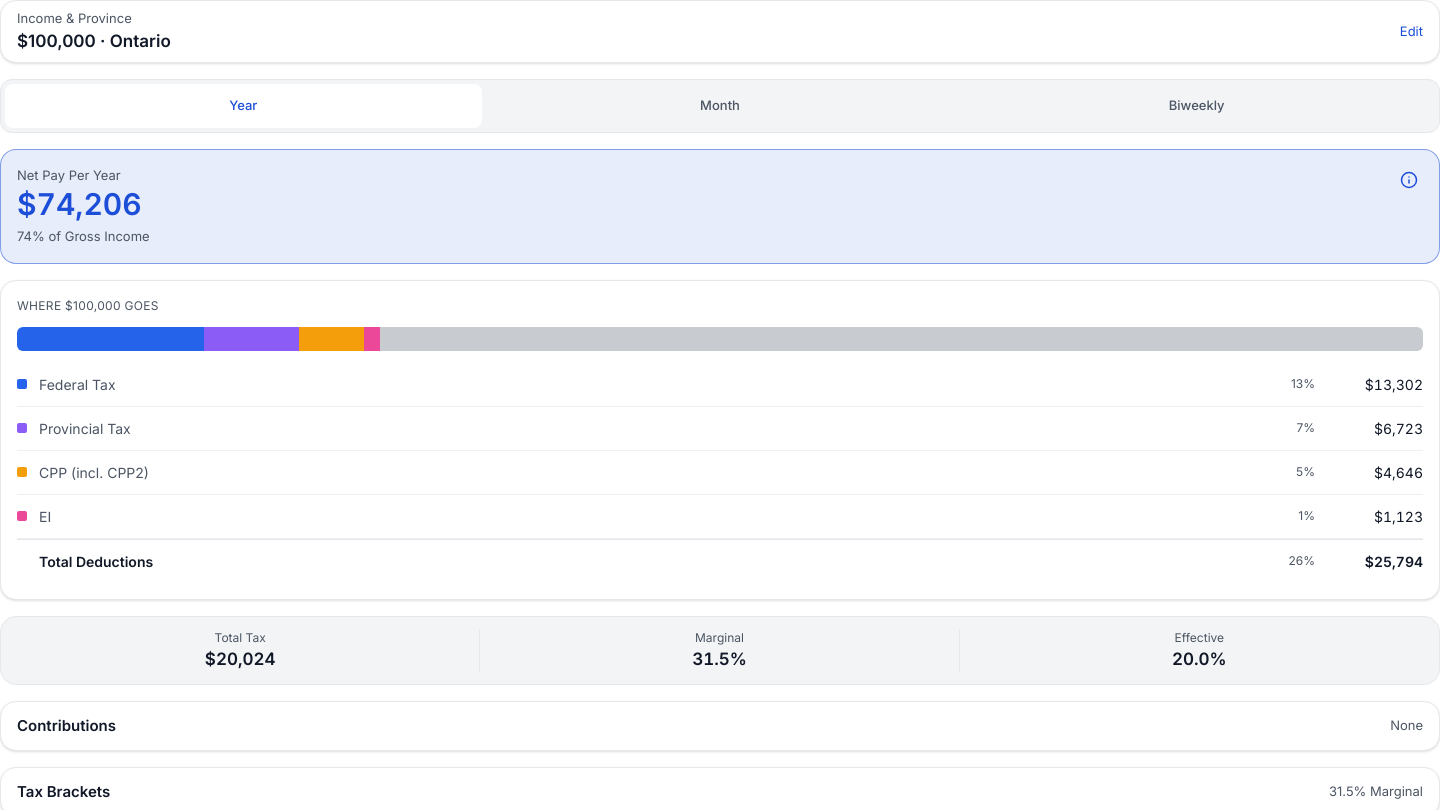
Test: shows the tax year only inside the info button
Expected: the text "tax year" is not shown
Click the button named "About These Numbers" at [1409, 180], box [1387,158,1431,202]
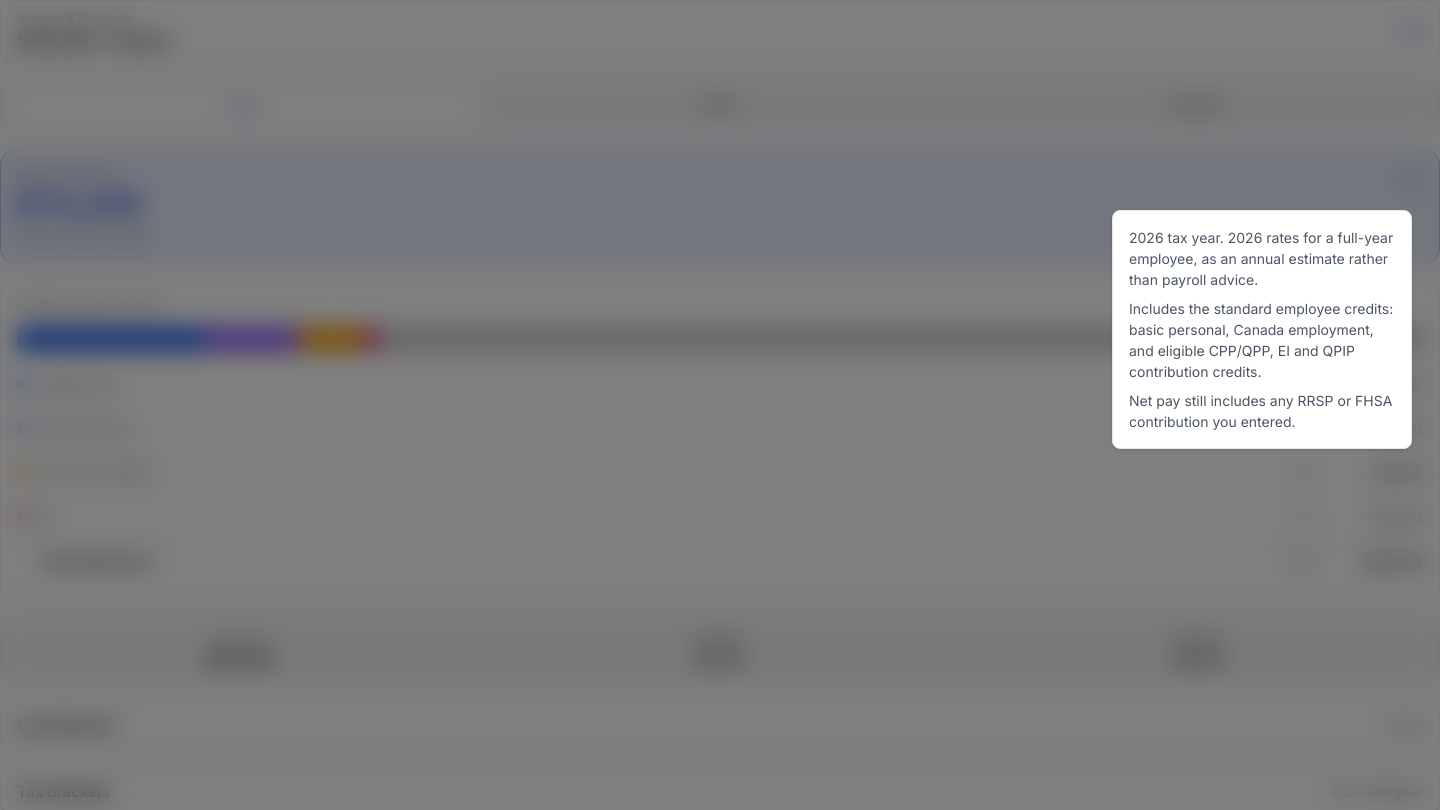
Result: the text "tax year." is shown at [1164,229,1228,246]
